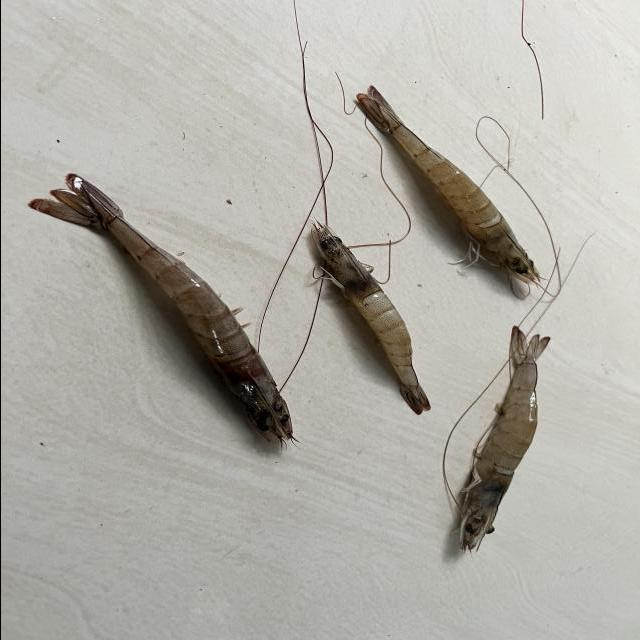shrimp: (28, 173, 293, 445), (356, 85, 540, 284), (311, 222, 430, 415), (460, 326, 550, 552)
